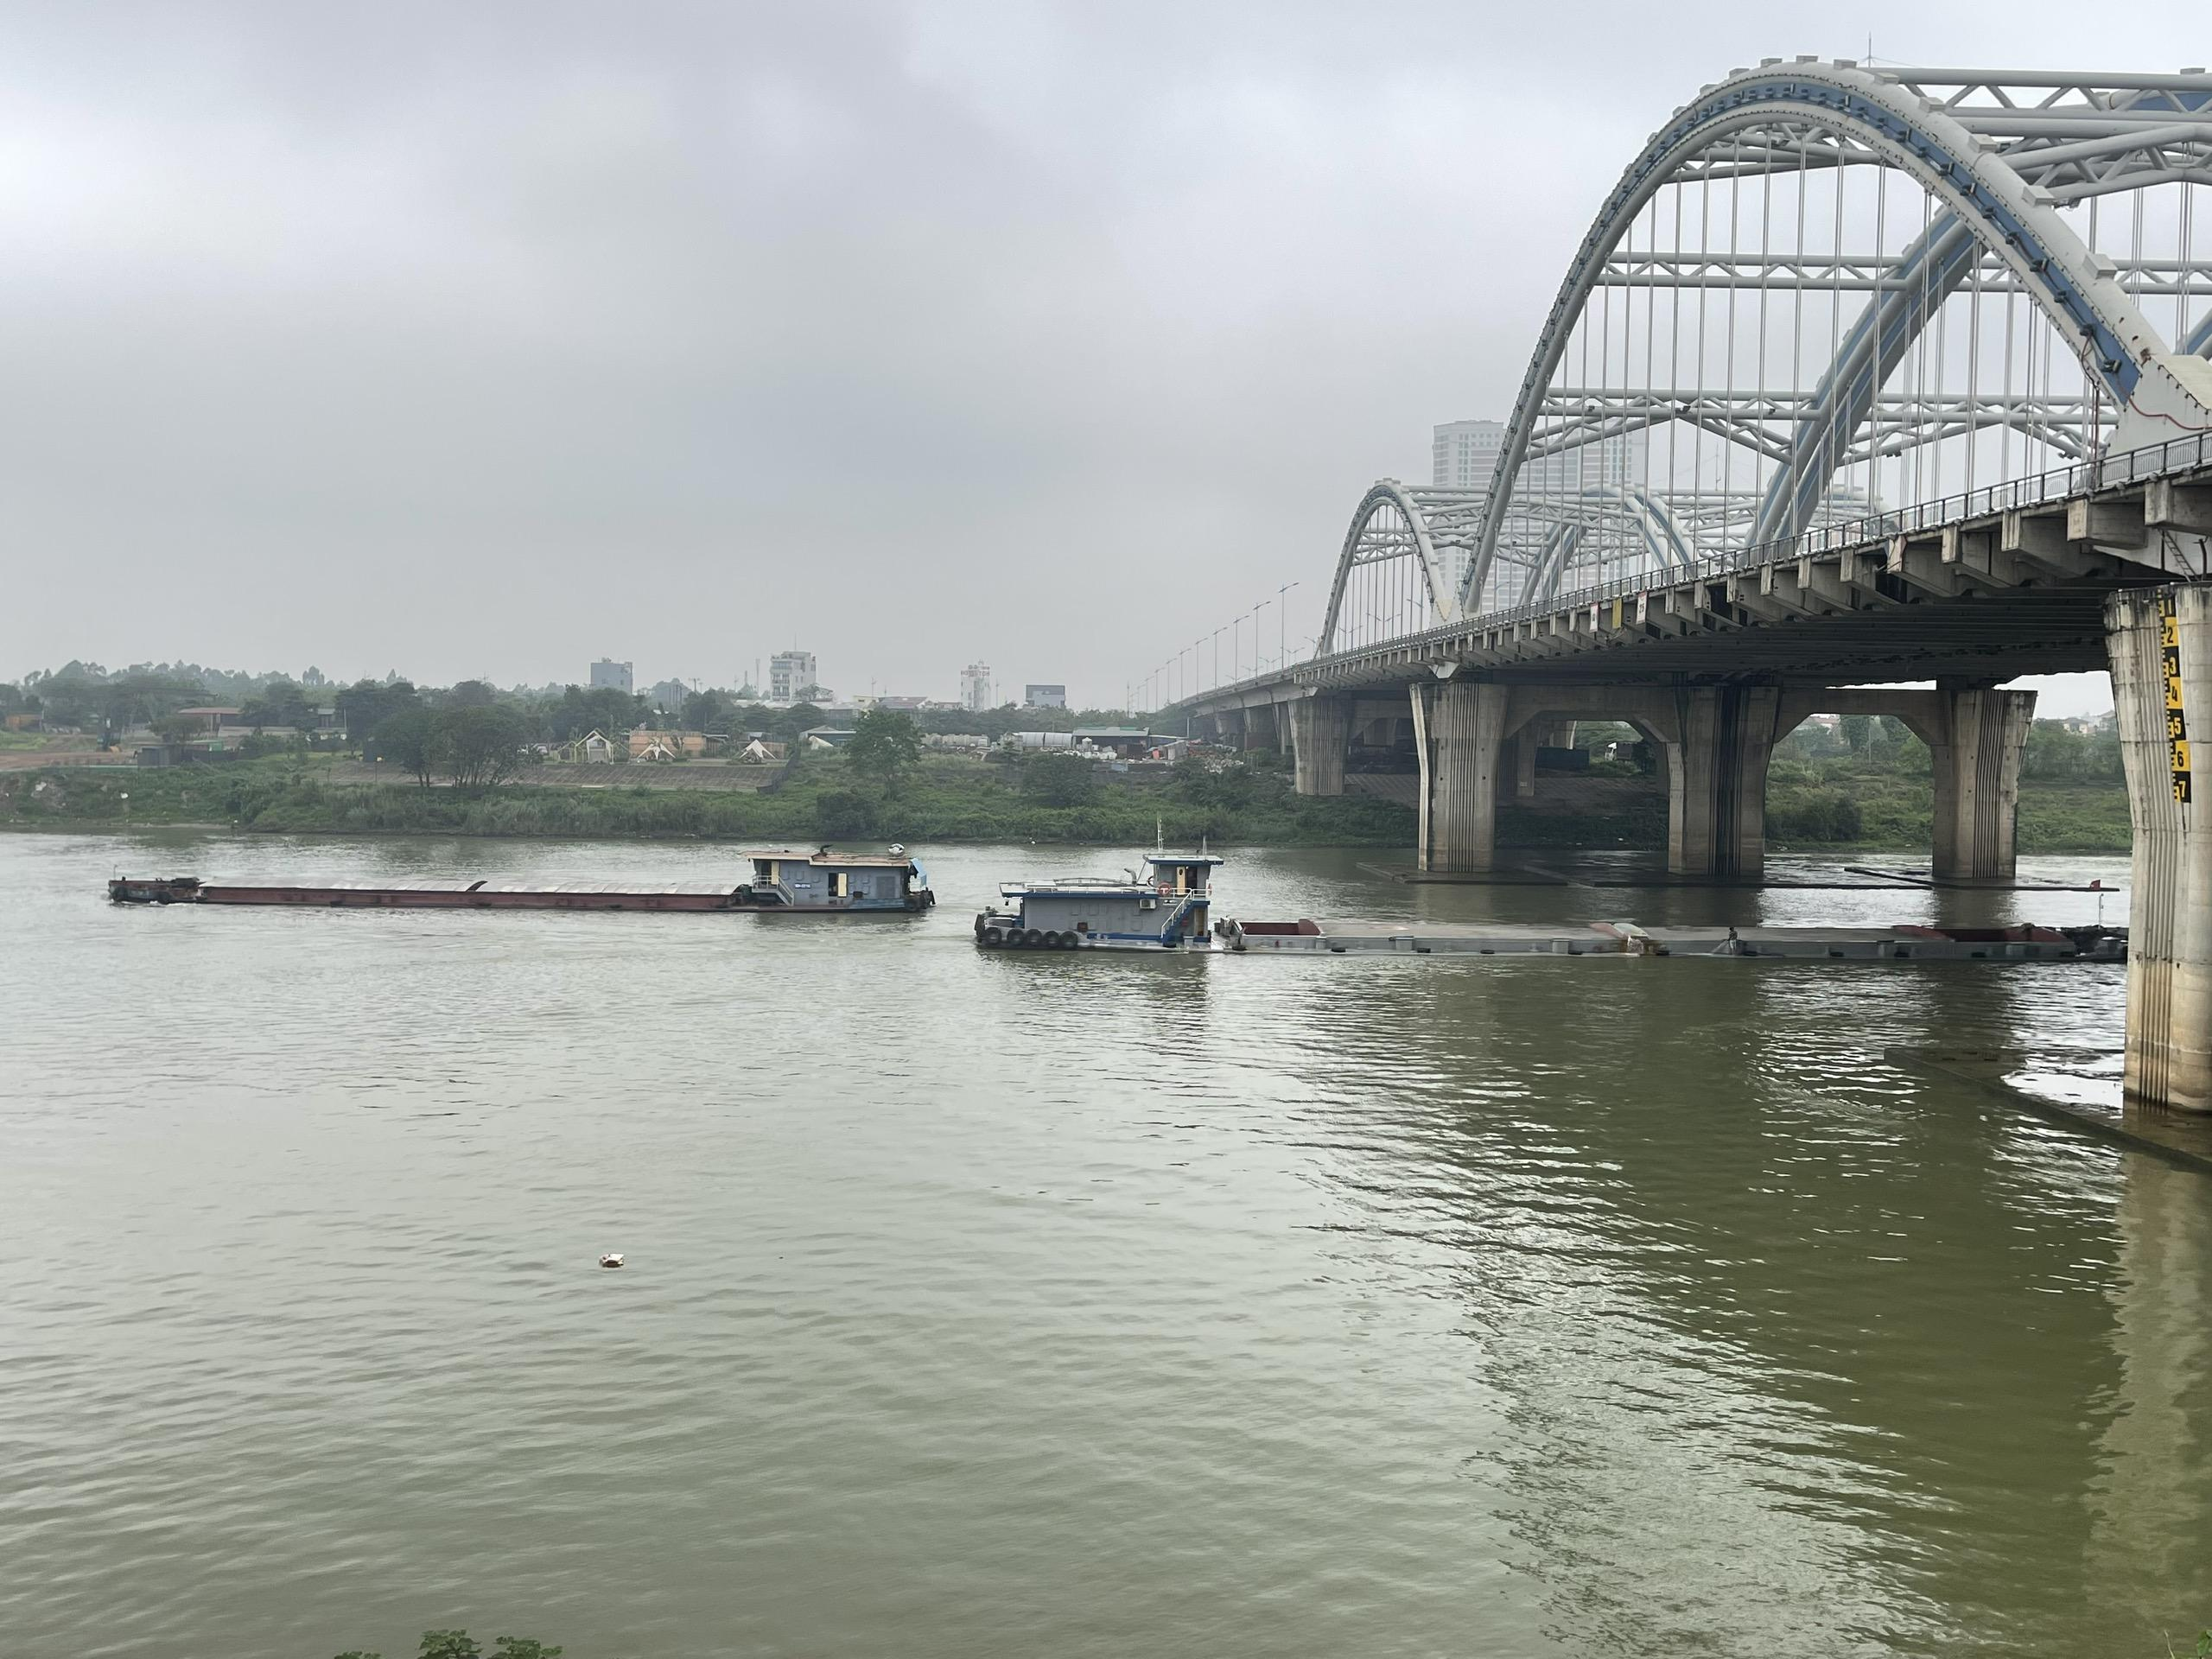Ship: (970, 866, 2125, 972), (99, 840, 944, 924)
